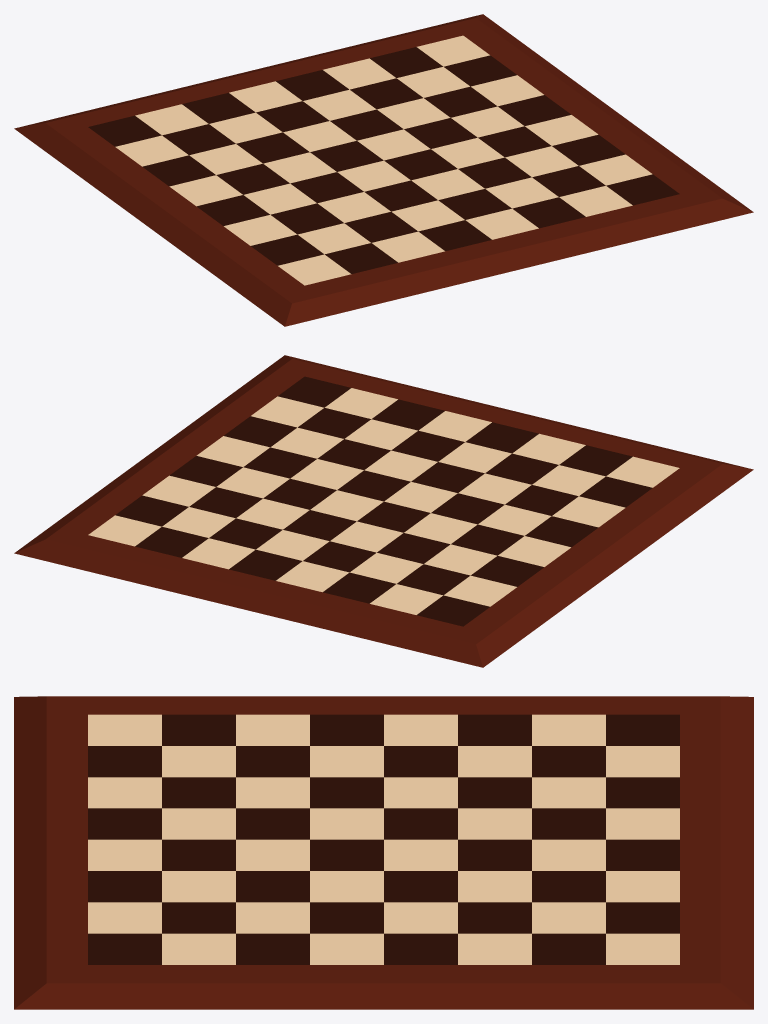
File: Schaakbord.fbx
The picture shows the model from 3 angles, top to bottom: view 1: azimuth 30°, elevation 25°; view 2: azimuth 150°, elevation 25°; view 3: azimuth 270°, elevation 25°; orthographic projection. The views are drawn at different scales.
Visible parts, largest first — view 1: Cube, Plane.012, Plane.002, Plane.014, Plane.009, Plane.022, Plane.036, Plane.047, Plane.054, Plane.049, Plane, Plane.001 (+53 smaller); view 2: Cube, Plane.051, Plane.014, Plane.009, Plane.016, Plane.027, Plane.041, Plane.054, Plane.049, Plane.061, Plane.002, Plane.003 (+53 smaller); view 3: Cube, Plane, Plane.001, Plane.002, Plane.003, Plane.004, Plane.005, Plane.006, Plane.007, Plane.015, Plane.014, Plane.013 (+53 smaller).
Part boxes in pixels (x1,y1,x2,y2): Cube: (14, 14, 753, 326); Plane.012: (485, 177, 558, 208); Plane.002: (606, 174, 679, 205); Plane.014: (251, 234, 323, 265); Plane.009: (297, 223, 370, 254); Plane.022: (270, 203, 343, 234); Plane.036: (357, 129, 430, 160); Plane.047: (236, 132, 309, 163); Plane.054: (162, 124, 235, 155); Plane.049: (115, 135, 188, 166); Plane: (372, 231, 444, 262); Plane.001: (278, 254, 351, 285); Cube: (14, 355, 753, 667); Plane.051: (209, 518, 282, 549); Plane.014: (579, 476, 652, 507); Plane.009: (532, 465, 605, 496); Plane.016: (458, 473, 531, 504); Plane.027: (337, 470, 410, 501); Plane.041: (424, 544, 497, 575); Plane.054: (397, 564, 470, 595); Plane.049: (444, 575, 516, 606); Plane.061: (88, 515, 161, 546); Plane.002: (278, 376, 350, 407); Plane.003: (371, 399, 444, 430); Cube: (14, 696, 753, 1009); Plane: (88, 777, 161, 808); Plane.001: (88, 714, 161, 745); Plane.002: (88, 933, 161, 964); Plane.003: (88, 871, 161, 902); Plane.004: (88, 839, 161, 870); Plane.005: (88, 808, 161, 839); Plane.006: (88, 746, 161, 777); Plane.007: (88, 902, 161, 933); Plane.015: (162, 777, 235, 808); Plane.014: (162, 714, 235, 745); Plane.013: (162, 933, 235, 964).
Size of the model in its own units: 500 by 10.1 by 500.
